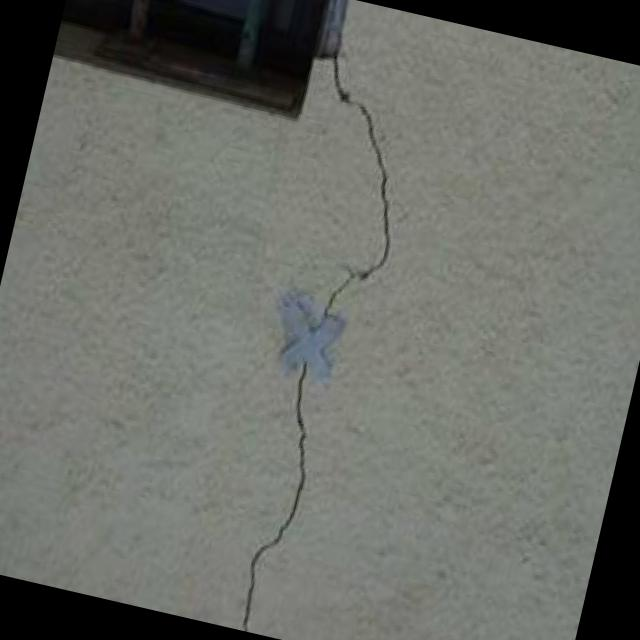crack: (321, 55, 391, 324), (241, 362, 310, 631)
